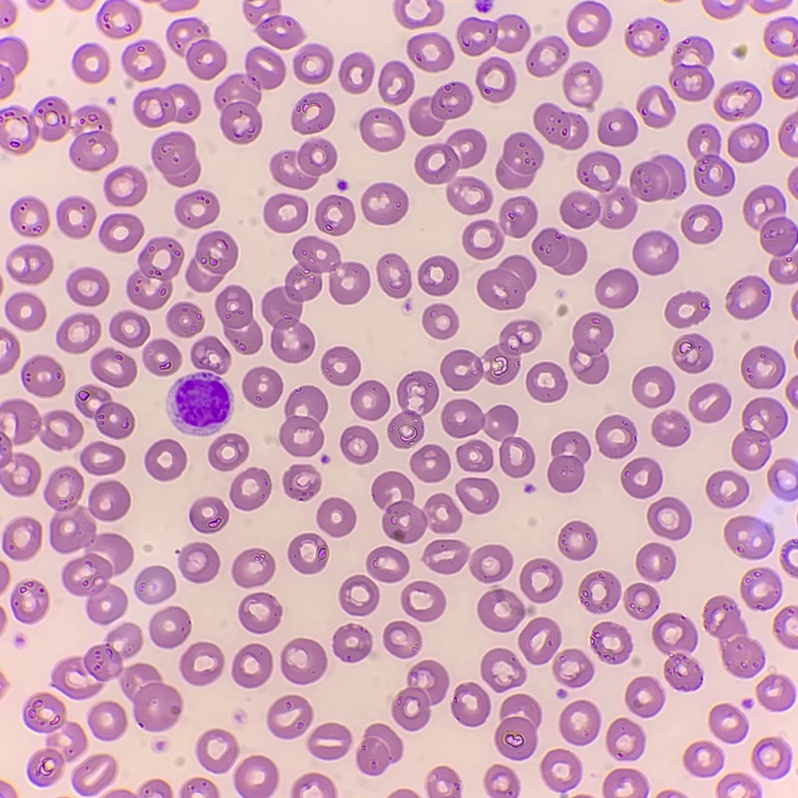RBC: (52, 623, 181, 731), (44, 467, 132, 624), (262, 236, 369, 362), (560, 151, 685, 228), (0, 97, 117, 171), (441, 399, 534, 477), (441, 320, 540, 390), (214, 47, 285, 143), (372, 472, 461, 542), (23, 693, 86, 785), (704, 596, 764, 677), (1, 399, 82, 449), (127, 237, 183, 309), (168, 372, 232, 435), (732, 397, 786, 470), (392, 660, 448, 730), (388, 371, 438, 448), (652, 613, 702, 690), (415, 129, 485, 183), (167, 19, 226, 79), (409, 82, 472, 135), (270, 139, 336, 189), (280, 386, 327, 456), (688, 124, 734, 195), (216, 285, 262, 354), (477, 255, 535, 309), (75, 385, 134, 438), (186, 231, 237, 291), (569, 313, 612, 383), (457, 14, 530, 55), (495, 694, 541, 759), (133, 83, 200, 127), (243, 0, 303, 49), (669, 37, 712, 100), (151, 131, 199, 186), (496, 132, 543, 188), (548, 431, 590, 492), (0, 433, 40, 496), (534, 103, 588, 149), (532, 228, 586, 274), (760, 217, 797, 283), (356, 724, 402, 775), (281, 638, 326, 684), (724, 516, 772, 559), (478, 588, 525, 631), (567, 1, 611, 46), (633, 231, 678, 274), (267, 695, 312, 738), (361, 183, 407, 224), (519, 618, 560, 664), (180, 642, 223, 685), (360, 108, 404, 150), (481, 649, 525, 691), (71, 754, 116, 795), (727, 276, 769, 319), (741, 346, 784, 388), (648, 497, 691, 539), (196, 729, 238, 772), (559, 701, 600, 745), (234, 756, 278, 797), (6, 245, 52, 284), (21, 355, 64, 396), (520, 559, 561, 602), (401, 581, 445, 621), (563, 62, 602, 107), (715, 81, 760, 120), (407, 33, 453, 71), (632, 366, 674, 407), (579, 571, 620, 613), (291, 93, 334, 133), (596, 415, 636, 458), (232, 644, 272, 687), (476, 57, 515, 101), (56, 314, 100, 353), (91, 349, 136, 387), (149, 607, 190, 648), (526, 36, 568, 76), (104, 166, 146, 206), (230, 468, 270, 510), (239, 593, 281, 633), (541, 749, 581, 791), (451, 683, 490, 726), (99, 214, 143, 252), (744, 186, 784, 227), (145, 439, 185, 480), (621, 457, 661, 498), (178, 542, 219, 582), (741, 568, 781, 609), (591, 622, 631, 663), (122, 41, 164, 80), (66, 267, 108, 306), (175, 190, 218, 228), (264, 194, 307, 232), (447, 177, 491, 214), (0, 38, 27, 98), (293, 43, 333, 83), (526, 362, 566, 402), (242, 367, 282, 407), (89, 481, 129, 521), (288, 533, 328, 573), (596, 269, 637, 308), (689, 383, 730, 422), (625, 18, 667, 56), (706, 470, 748, 508), (232, 549, 274, 587), (97, 0, 140, 37), (681, 204, 721, 243), (418, 256, 458, 295), (339, 575, 378, 615), (625, 677, 664, 717), (57, 196, 95, 237), (3, 518, 41, 559), (752, 737, 790, 778), (637, 85, 674, 127), (470, 545, 512, 582), (11, 581, 48, 623), (607, 718, 644, 760), (308, 723, 351, 759), (316, 195, 354, 235), (499, 197, 537, 237), (462, 220, 502, 258), (5, 292, 45, 330), (553, 649, 593, 687), (378, 61, 413, 104), (10, 197, 48, 236), (673, 334, 712, 372), (321, 347, 360, 385), (558, 521, 596, 560), (636, 543, 675, 581), (88, 701, 126, 740), (135, 566, 175, 603), (665, 292, 707, 327), (456, 478, 498, 513), (366, 547, 408, 582), (424, 540, 468, 573), (728, 124, 766, 162), (351, 381, 389, 419), (317, 498, 355, 536), (333, 624, 371, 662), (709, 704, 747, 742), (191, 336, 230, 373), (208, 434, 248, 470), (377, 254, 410, 297), (80, 442, 124, 474), (598, 109, 636, 146), (411, 445, 449, 482), (383, 621, 421, 658), (110, 311, 149, 347), (189, 497, 228, 533), (339, 52, 373, 93), (143, 339, 181, 375), (651, 410, 689, 446), (756, 675, 794, 711), (683, 742, 723, 776), (341, 426, 377, 463), (73, 44, 108, 82), (283, 465, 320, 500), (764, 17, 797, 56), (167, 302, 203, 337), (603, 769, 647, 797), (625, 583, 659, 619), (767, 459, 797, 499), (423, 304, 457, 338), (456, 440, 492, 471), (485, 765, 519, 797), (291, 773, 336, 797), (773, 606, 797, 649), (717, 773, 760, 797), (427, 766, 460, 797), (0, 328, 19, 373), (779, 113, 797, 156), (773, 66, 797, 98), (702, 0, 743, 18), (180, 778, 218, 797), (394, 0, 417, 28), (138, 780, 171, 797), (752, 0, 790, 12), (425, 0, 443, 25), (0, 0, 15, 27), (165, 0, 196, 11), (0, 563, 9, 590), (0, 782, 15, 797), (477, 0, 492, 12), (108, 790, 132, 797), (392, 790, 415, 797), (788, 170, 797, 186), (47, 736, 57, 747), (28, 0, 41, 7), (735, 47, 745, 56), (790, 377, 797, 389), (789, 539, 797, 548), (81, 0, 91, 7), (0, 611, 5, 625), (68, 0, 79, 6), (791, 567, 797, 577), (659, 792, 669, 797), (793, 296, 797, 304), (0, 677, 4, 685)
